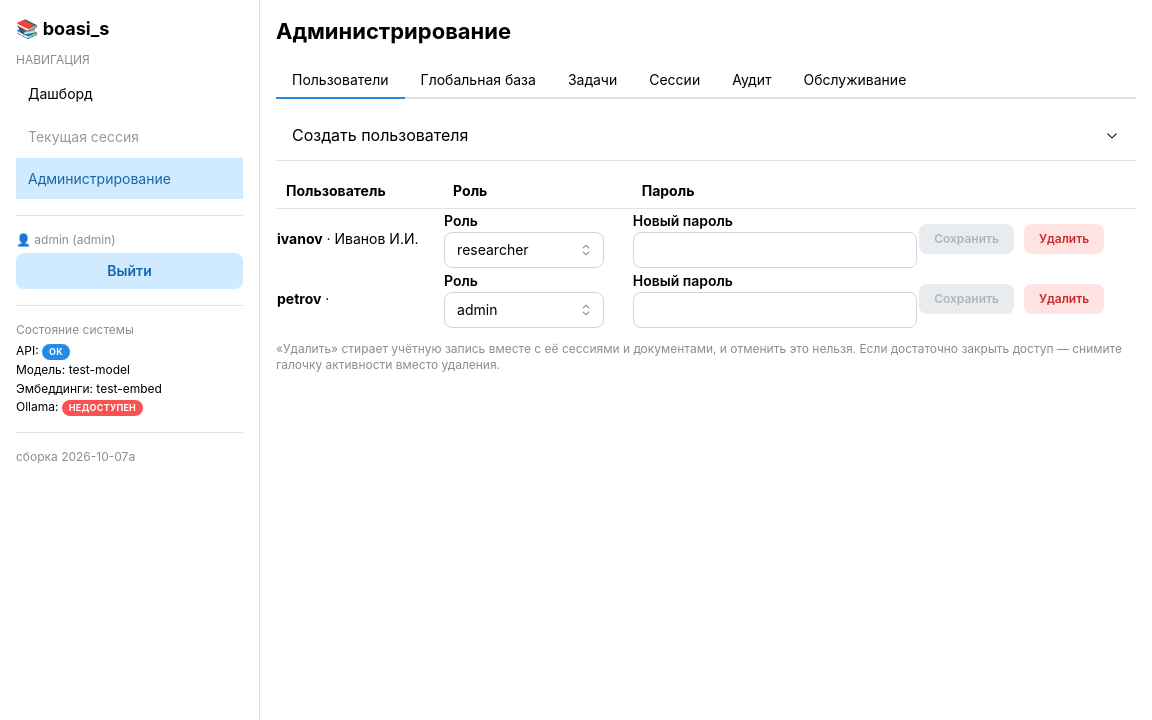
Test: админка › создание пользователя: кнопкаdisabledпока пароль короче 8
This screenshot has width=1152, height=720.
Expected: the text "ivanov" is shown, [277,230,323,247]
Click the button "Создать пользователя" at (380, 135), box [276,111,1136,160]
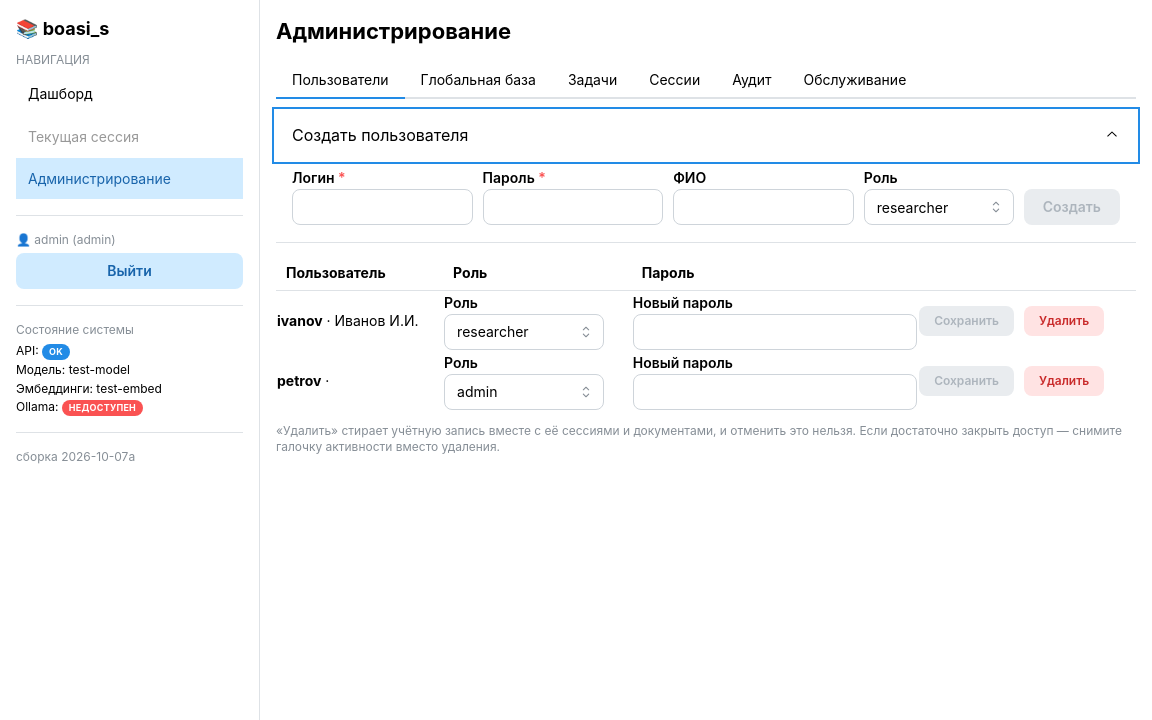
Type "sidorov" into the field labelled "Логин *" at (382, 207), box [292,189,473,225]
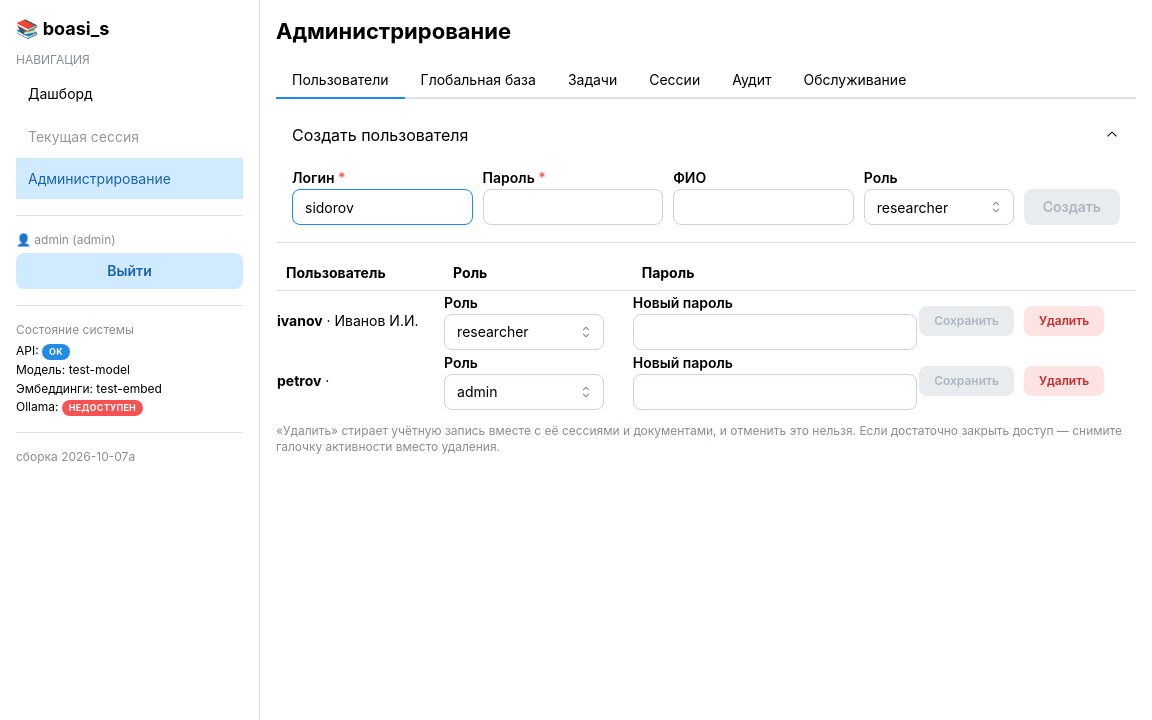
Type "short" into the password field labelled "Пароль *" at (573, 207), box [483,189,663,225]
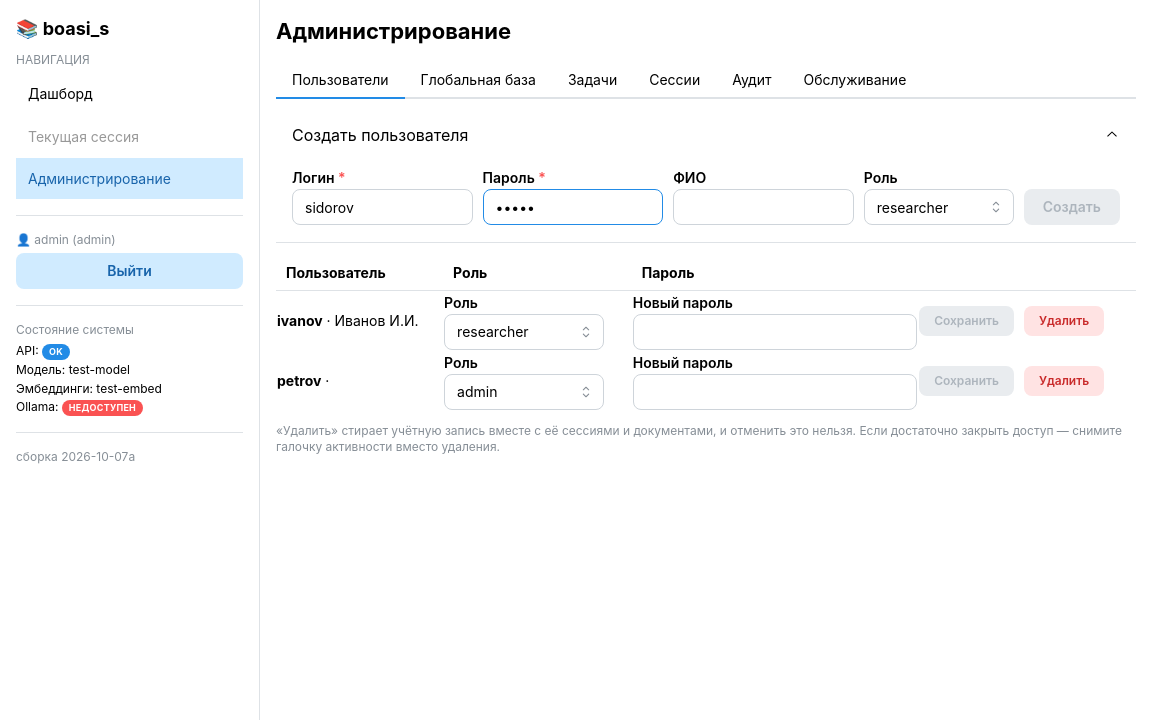
Expected: the button "Создать" is disabled, [1024,189,1120,225]
Type "12345678" into the password field labelled "Пароль *" at (573, 207), box [483,189,663,225]
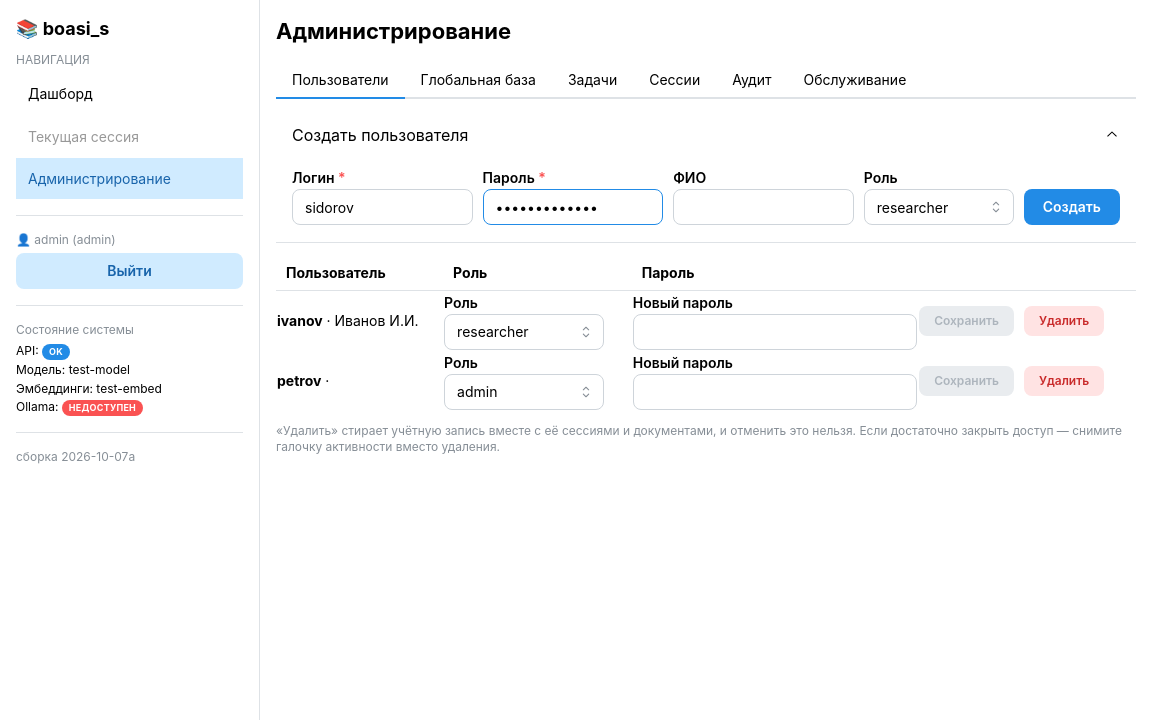
Expected: the button "Создать" is enabled
Click the button "Создать" at (1072, 207), box [1024,189,1120,225]
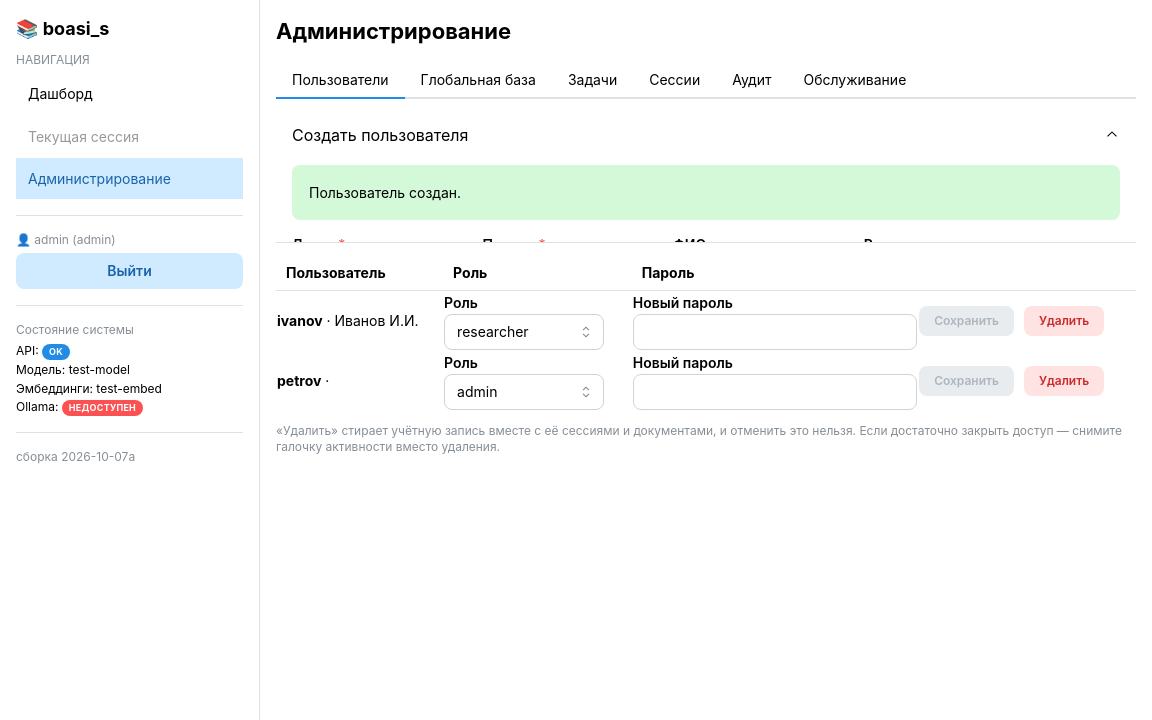
Expected: the text "Пользователь создан." is shown, [309,184,461,201]
